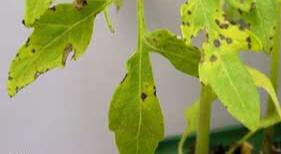Tomato leaf bacterial spot: (170, 0, 264, 134), (5, 0, 123, 101), (105, 39, 163, 154)
